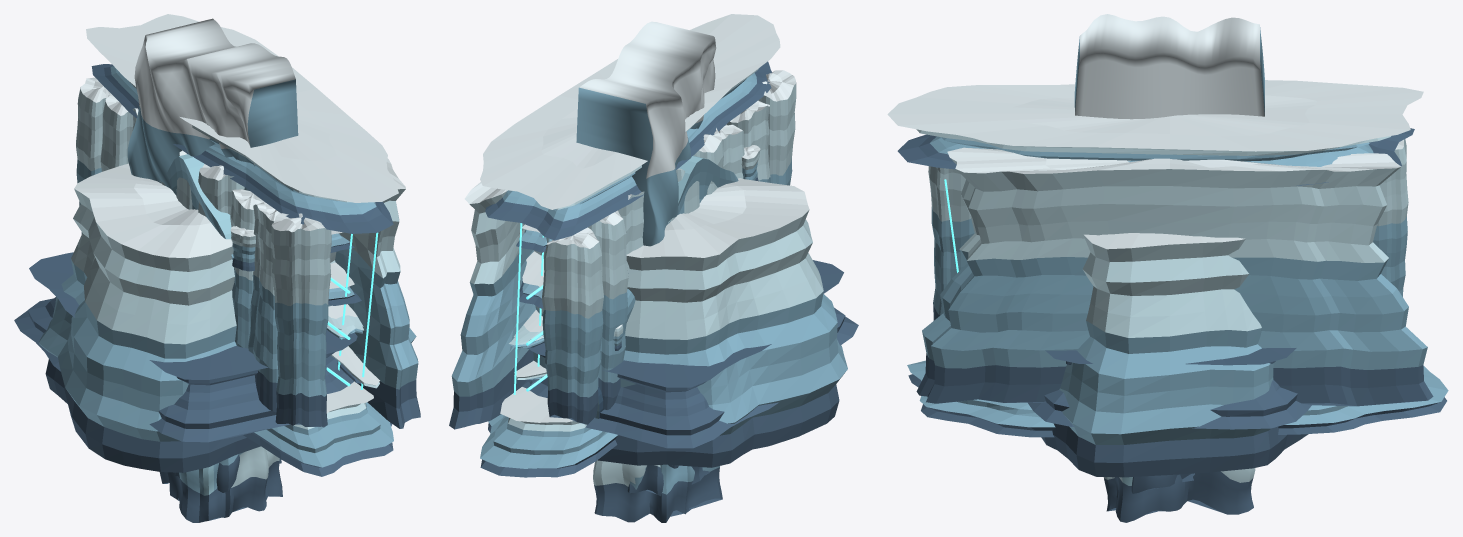
Rendered from glasswake-environment-v4.glb.
3 views of the same model, side by side, from view 1: azimuth 30°, elevation 25°; view 2: azimuth 150°, elevation 25°; view 3: azimuth 270°, elevation 25° (orthographic). The views are drawn at different scales.
Visible parts, largest first — view 1: far_fragment, calving_roof, crevice_wall, basal_strata, calving_chunk_08, calving_back, calving_floor, cliff_2, calving_chunk_07, calving_chunk_00, calving_chunk_06, calving_chunk_01 (+7 smaller); view 2: far_fragment, calving_roof, crevice_wall, calving_back, basal_strata, calving_chunk_00, calving_floor, cliff_2, calving_chunk_01, calving_chunk_08, recess_wall, calving_chunk_07 (+9 smaller); view 3: calving_back, far_fragment, calving_roof, crevice_wall, calving_floor, basal_strata, cliff_2, calving_chunk_08, calving_chunk_00, cliff_0.
Part boxes in pixels (x1,y1,x2,y2): far_fragment: (39,163,416,472); calving_roof: (86,14,398,233); crevice_wall: (127,18,298,190); basal_strata: (14,252,357,442); calving_chunk_08: (271,213,331,427); calving_back: (335,158,420,428); calving_floor: (243,381,393,476); cliff_2: (159,446,282,522); calving_chunk_07: (248,202,280,412); calving_chunk_00: (76,77,110,234); calving_chunk_06: (230,189,264,348); calving_chunk_01: (100,93,133,171); far_fragment: (533,178,847,467); calving_roof: (480,14,780,242); crevice_wall: (576,21,716,246); calving_back: (449,182,535,429); basal_strata: (522,260,858,448); calving_chunk_00: (542,227,603,424); calving_floor: (480,387,617,477); cliff_2: (593,460,722,522); calving_chunk_01: (588,210,628,410); calving_chunk_08: (758,70,796,185); recess_wall: (595,155,738,418); calving_chunk_07: (726,100,770,182); calving_back: (916,147,1433,406); far_fragment: (1041,233,1308,477); calving_roof: (887,80,1423,185); crevice_wall: (1074,14,1264,119); calving_floor: (907,360,1448,437); basal_strata: (1028,348,1311,429); cliff_2: (1103,468,1255,522); calving_chunk_08: (928,166,974,320); calving_chunk_00: (1373,139,1408,296); cliff_0: (1131,473,1194,493).
Size of the model in its own units: 360 by 477 by 505.
